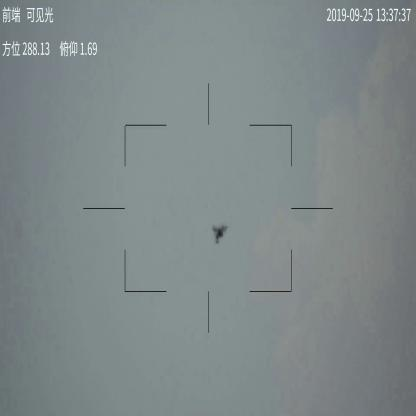uav: (210, 220, 230, 244)
